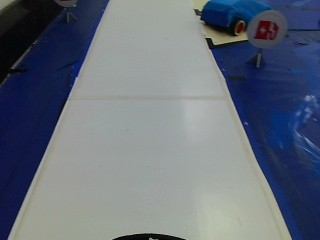battery: (246, 10, 284, 45)
car: (194, 0, 250, 37)
